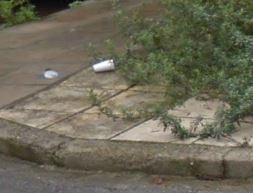trash: (88, 55, 121, 77), (38, 65, 65, 83)
